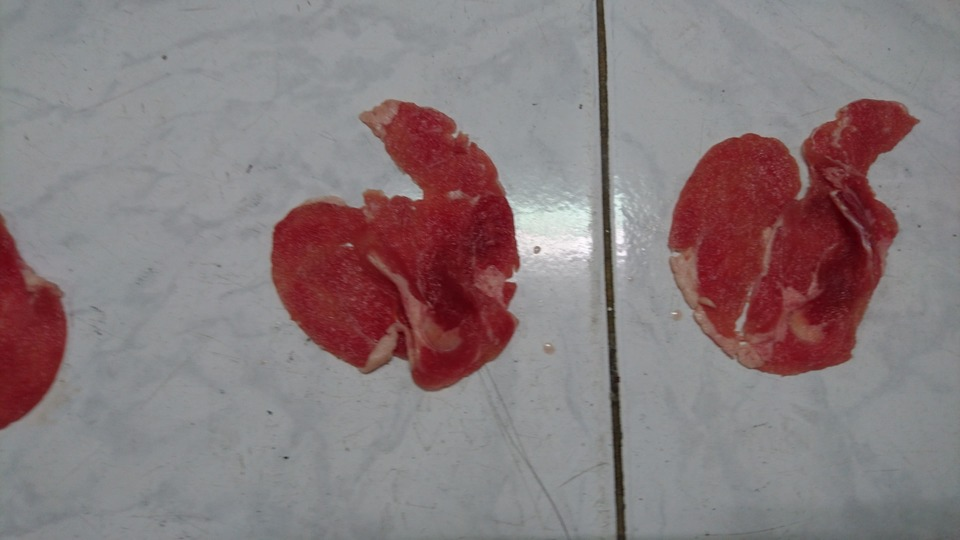restructured meat: (658, 94, 921, 392), (254, 110, 530, 388), (1, 192, 80, 432)
